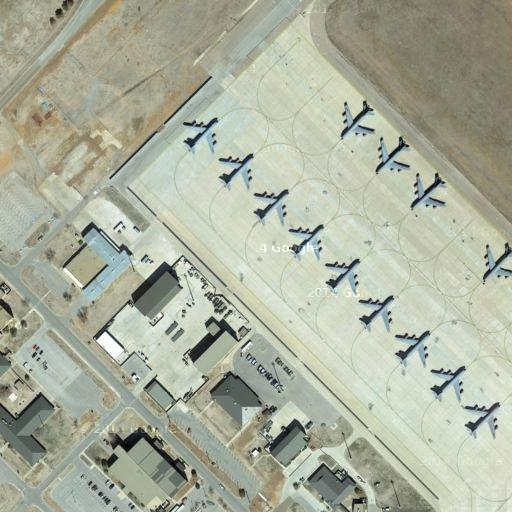KC-135: (180, 112, 223, 160), (251, 182, 292, 231), (406, 170, 450, 213), (322, 255, 365, 297), (370, 132, 410, 177), (336, 99, 377, 141), (288, 220, 328, 263), (217, 150, 257, 192), (394, 327, 434, 369), (357, 293, 398, 333), (479, 239, 512, 287), (463, 402, 504, 440), (429, 365, 468, 402)
